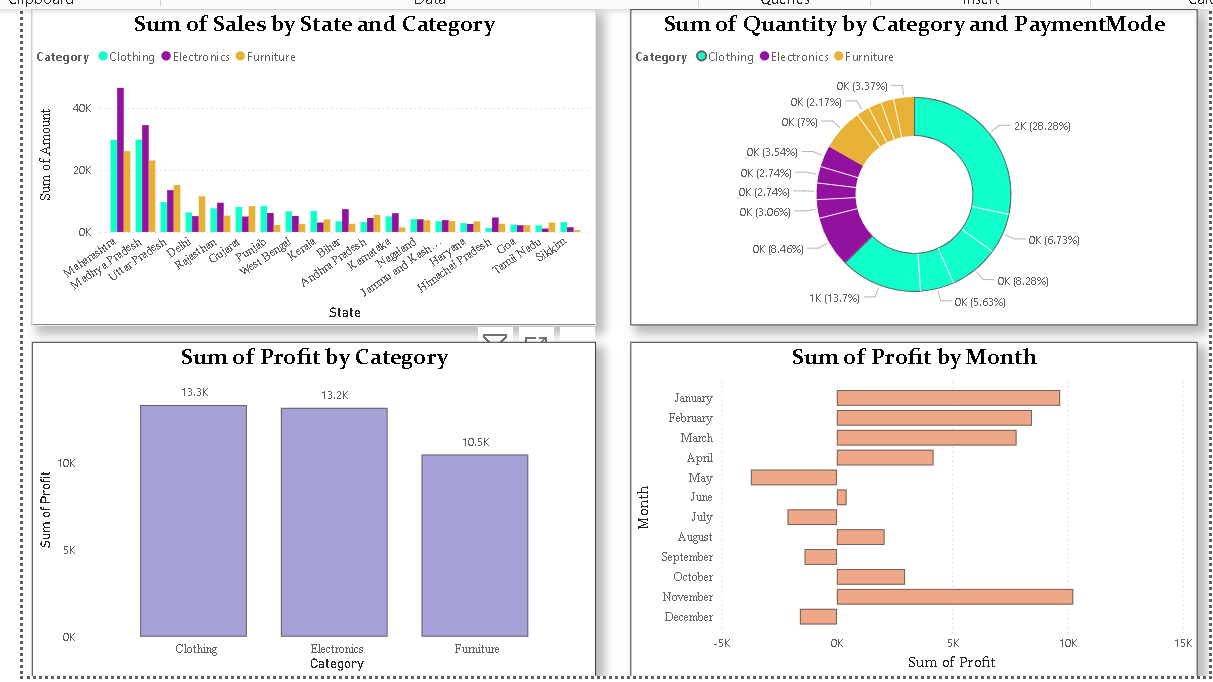

This screenshot's page, from the dashboard's own definition file:
{"tool":"powerbi","page":{"name":"Page 2","canvas":[1280,720],"ordinal":1},"visuals":[{"type":"clusteredColumnChart","title":"Sum of Sales by State and Category","fields":{"Category":["Orders.State"],"Y":["Sum(Details.Amount)"],"Series":["Details.Category"]},"box":[9.7,0,608.8,341.7],"z":0},{"type":"donutChart","fields":{"Y":["Sum(Details.Quantity)"],"Category":["Details.Category"],"Series":["Details.PaymentMode"]},"box":[655.8,0,612.1,341.7],"z":1000},{"type":"columnChart","fields":{"Y":["Sum(Details.Profit)"],"Category":["Details.Category"]},"box":[9.7,359.5,608.8,361.1],"z":2000},{"type":"barChart","fields":{"Y":["Sum(Details.Profit)"],"Category":["Orders.Order Date.Variation.Date Hierarchy.Month"]},"box":[655.8,359.5,612.1,361.1],"z":3000}]}

Visuals, with their boxes in screenshot pixels (x1, y1, x2, y2):
"Sum of Sales by State and Category" clusteredColumnChart: box=[22, 3, 591, 322]
donutChart - Sum(Details.Quantity) x Details.Category: box=[626, 3, 1198, 322]
columnChart - Sum(Details.Profit) x Details.Category: box=[22, 339, 591, 677]
barChart - Sum(Details.Profit) x Orders.Order Date.Variation.Date Hierarchy.Month: box=[626, 339, 1198, 677]
